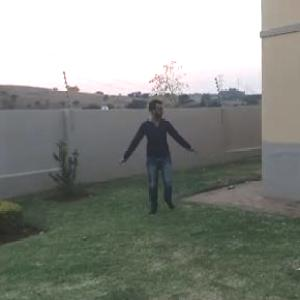land: (111, 103, 206, 233)
